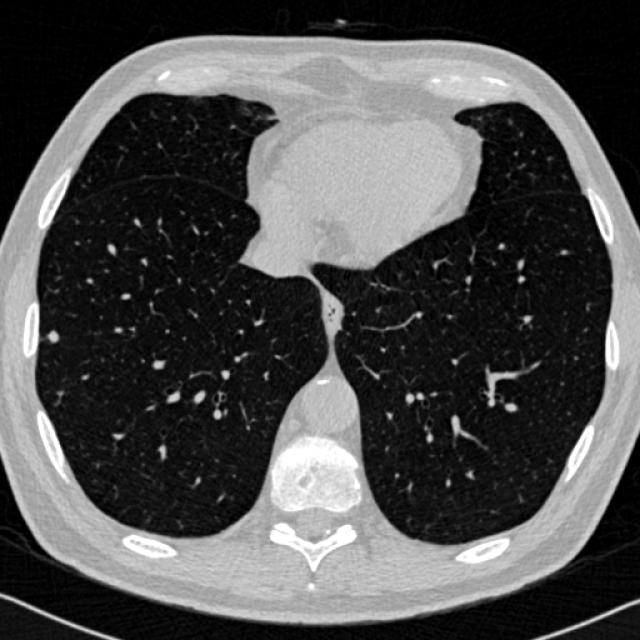nodule: (40, 324, 65, 348)
